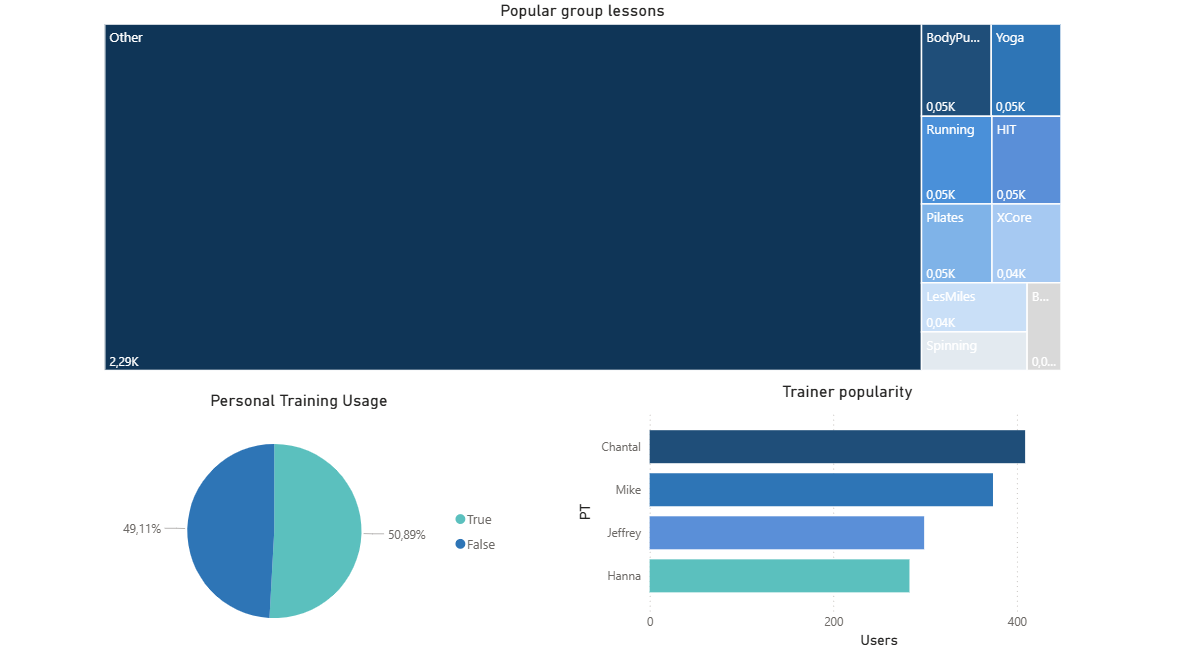

Layout of this report page (visuals, bound fields, positions):
{"tool":"powerbi","page":{"name":"Services & Engagement","canvas":[1280,720],"ordinal":2},"visuals":[{"type":"treemap","title":"Popular group lessons","fields":{"Group":["gym_membership.fav_group_lesson (groups)"],"Values":["CountNonNull(gym_membership.id)"]},"box":[157.8,27.6,986.8,383.1],"z":0},{"type":"clusteredBarChart","title":"Trainer popularity","fields":{"Category":["gym_membership.name_personal_trainer"],"Y":["CountNonNull(gym_membership.personal_training)"]},"box":[640,416.4,562.9,276.6],"z":1000},{"type":"pieChart","title":"Personal Training Usage","fields":{"Category":["gym_membership.personal_training"],"Y":["CountNonNull(gym_membership.id)"]},"box":[147.1,426,429.1,268.2],"z":2000}]}

Visuals, with their boxes in screenshot pixels (x1, y1, x2, y2), scaled from the page's 1280x720 canvas onto the 1177x646 screenshot:
"Popular group lessons" treemap: {"left": 145, "top": 25, "right": 1052, "bottom": 368}
"Trainer popularity" clusteredBarChart: {"left": 588, "top": 374, "right": 1106, "bottom": 622}
"Personal Training Usage" pieChart: {"left": 135, "top": 382, "right": 530, "bottom": 623}
